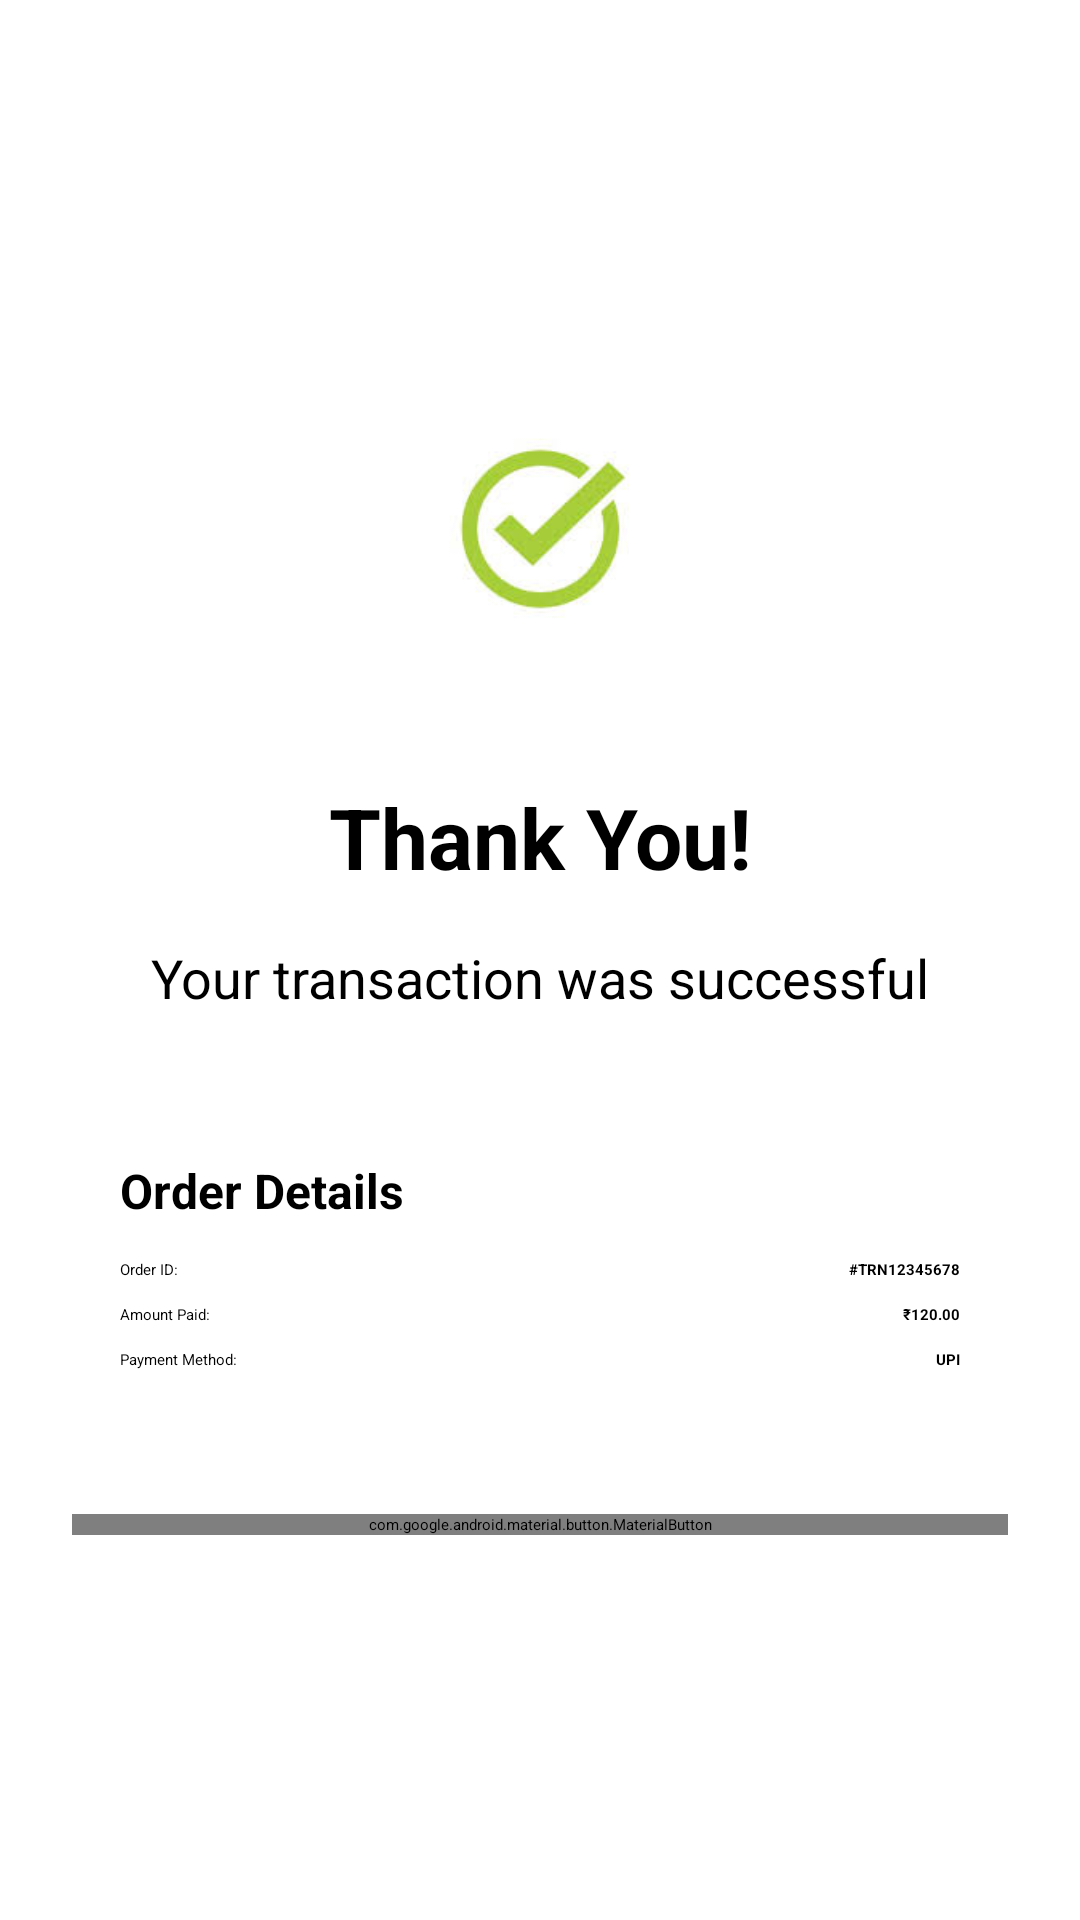

Icon click points for this 1080*1920 phone screenshot, format (x,y):
greentick: (543,529)
